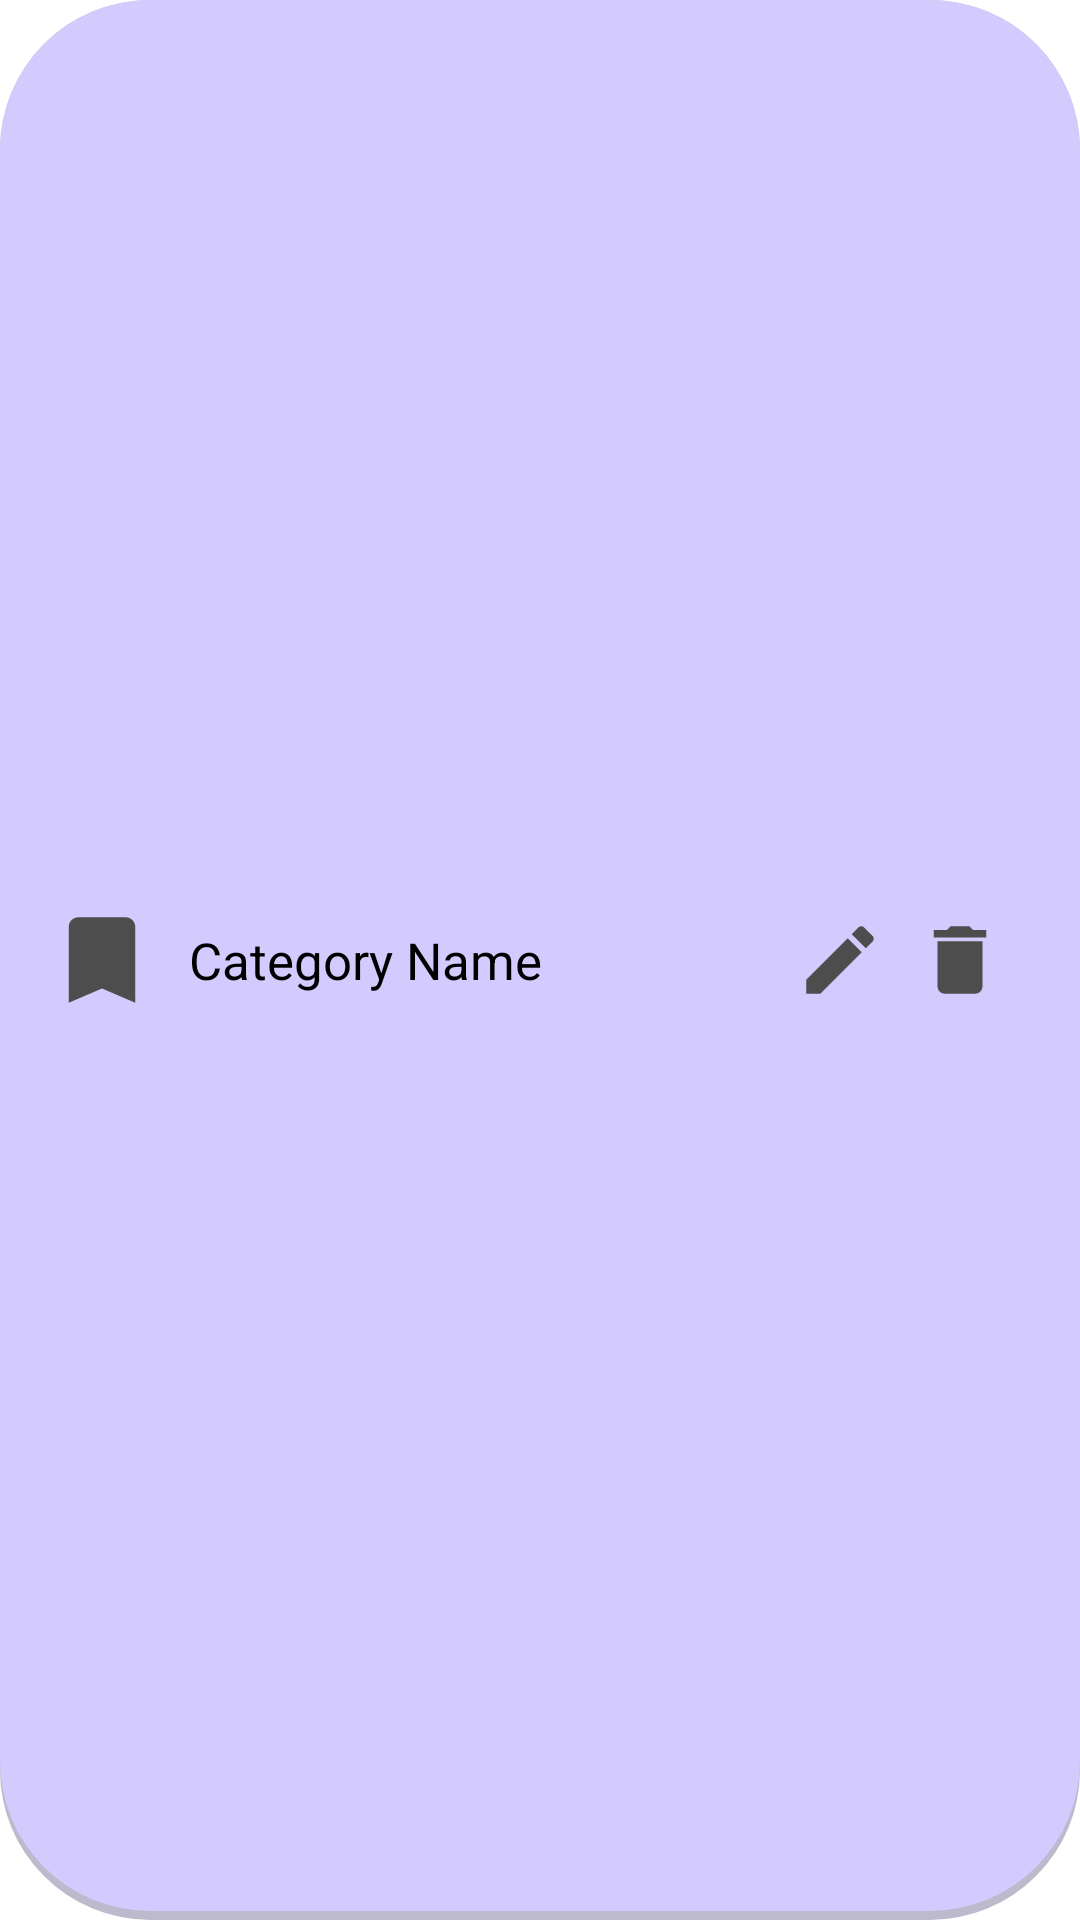

Screen size 1080px x 1920px. Icon name, then its center in pixels as (x=x, y=y):
bookmark: (x=102, y=960)
delete: (x=960, y=960)
edit: (x=840, y=960)
